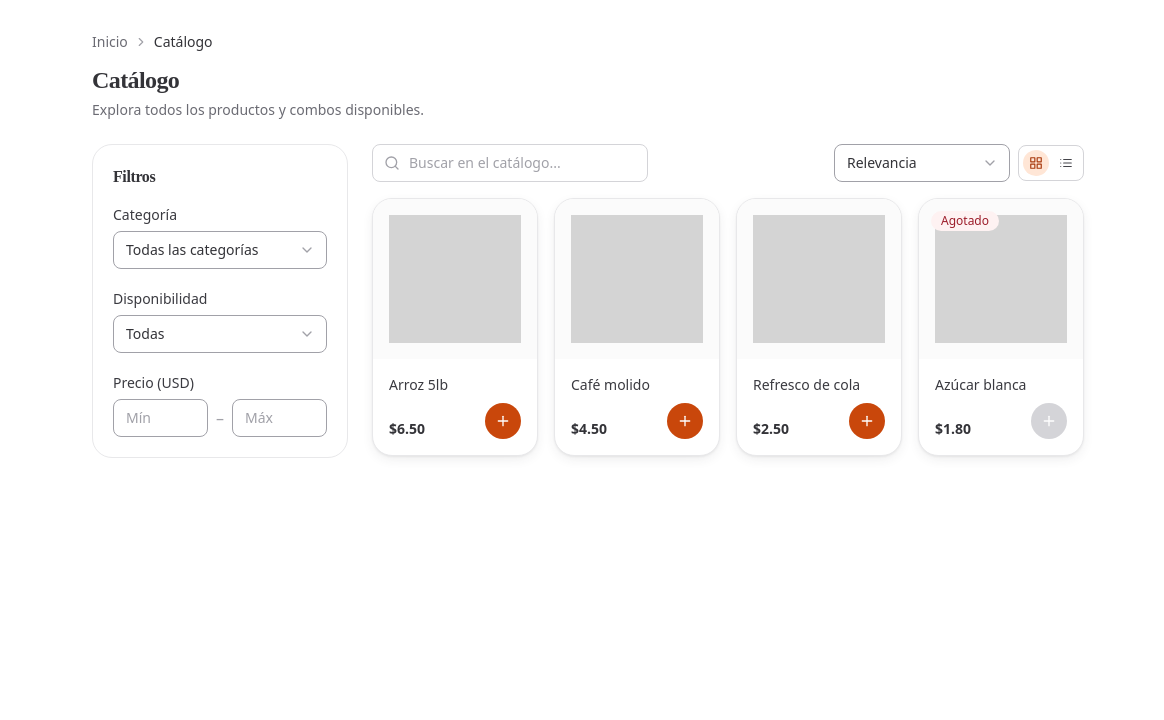
Test: CatalogPage › filtra por disponibilidad
Expected: the link "Arroz 5lb $6.50" is shown, [372,198,538,456]
Select "Agotados" in the dropdown labelled "Disponibilidad": (220, 334) [113,315,327,353]
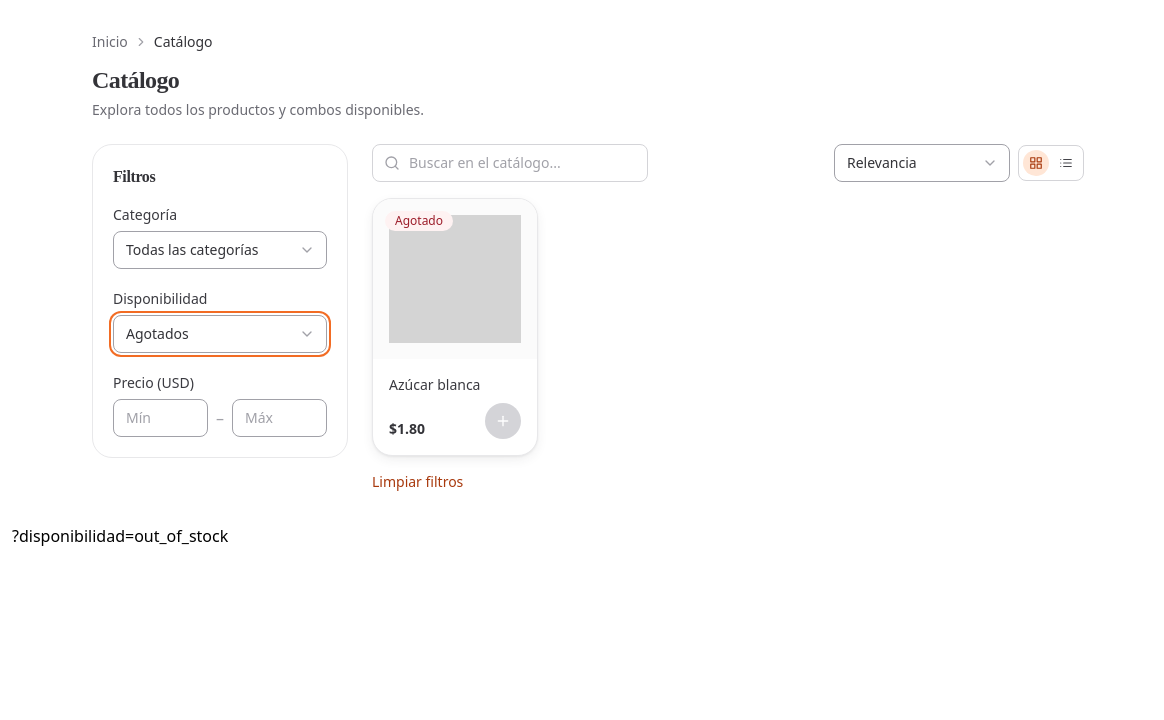
Expected: the link "Agotado Azúcar blanca $1.80" is shown, [372,198,538,456]
Result: the link "Arroz 5lb" is gone
